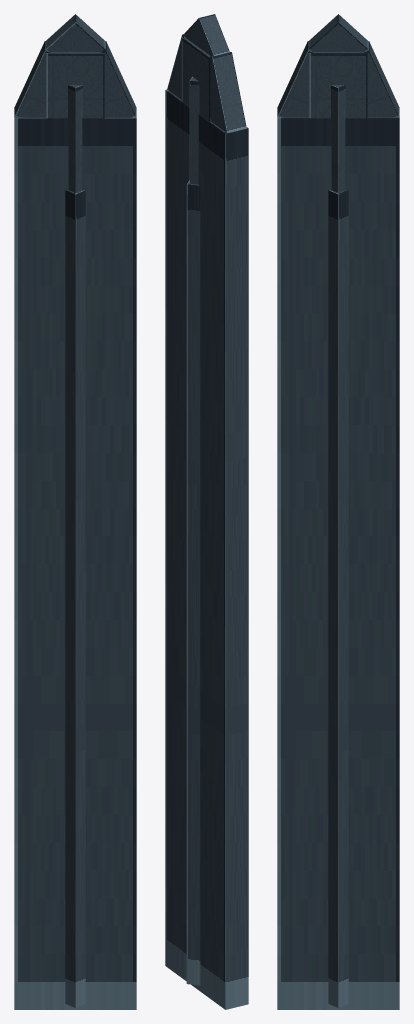
The model's file is workpiece_qingfeng_sword_quenched.obj.
3 renders of one model, left to right at view 1: azimuth 90°, elevation 25°; view 2: azimuth 210°, elevation 25°; view 3: azimuth 270°, elevation 25°, orthographic.
Parts seen in each view (by area): view 1: geometry; view 2: geometry; view 3: geometry.
Part boxes in pixels (x1,y1,x2,y2): geometry: (14, 14, 136, 1009); geometry: (165, 14, 248, 1009); geometry: (277, 14, 399, 1009).
Bounding box in the file's own units: 0.0438 × 1 × 0.1125.
